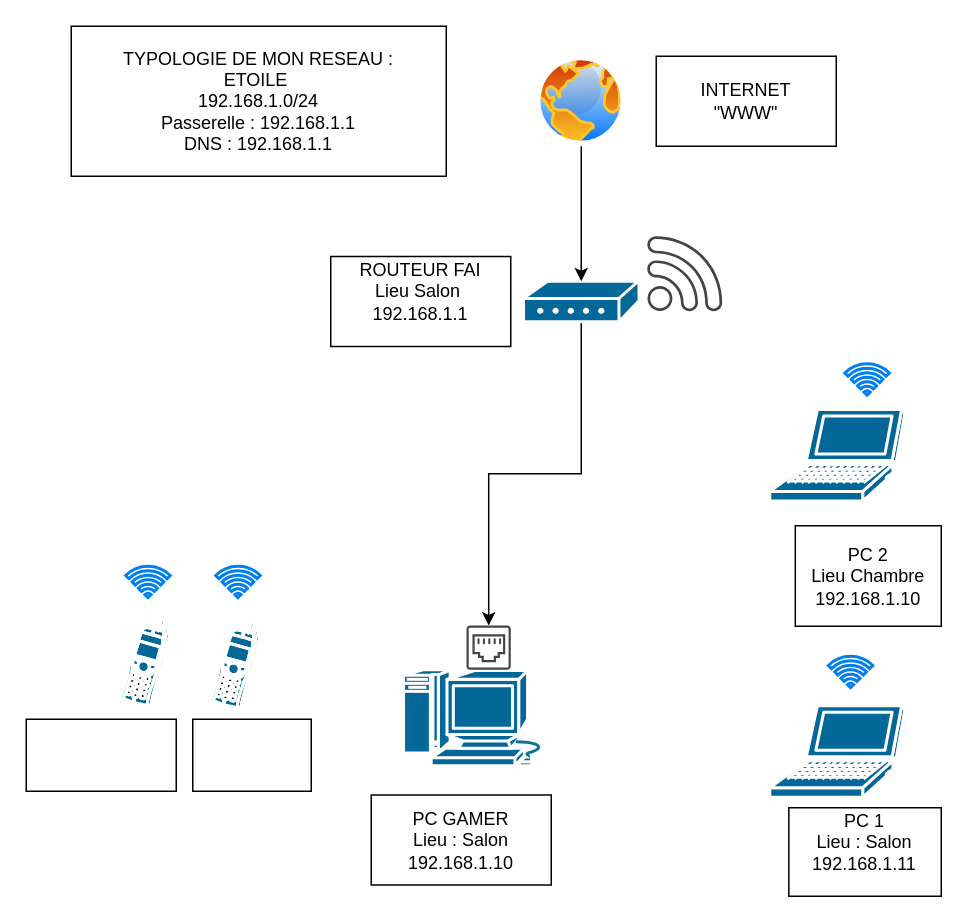
This 968x923 diagram has some shape labels left out. The centre of each missing label's shape, as x and y in pixels:
"PHONE 1 192.168.1.15" goes at [100,754].
"PHONE 2 192.168.1.16" goes at [251,754].
